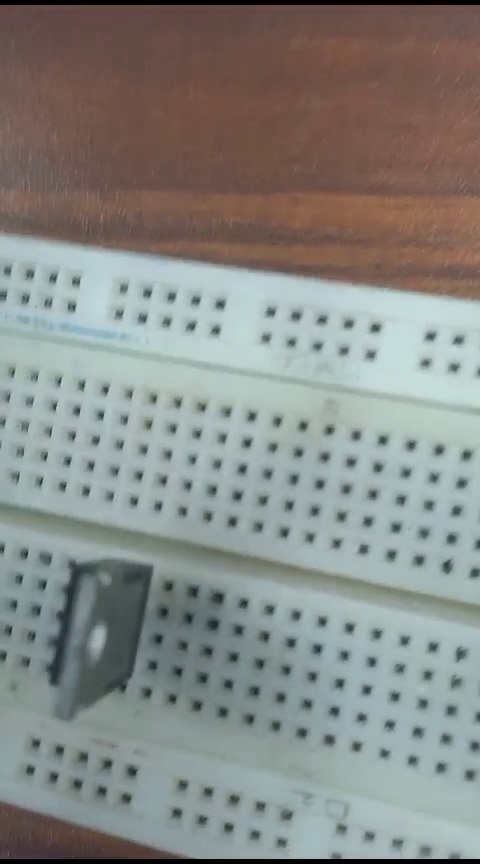voltage regulator: (40, 556, 152, 727)
